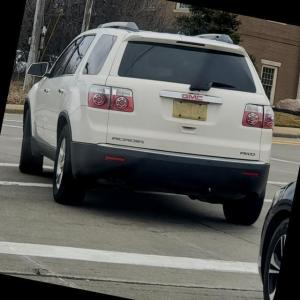Plate: (171, 99, 208, 121)
